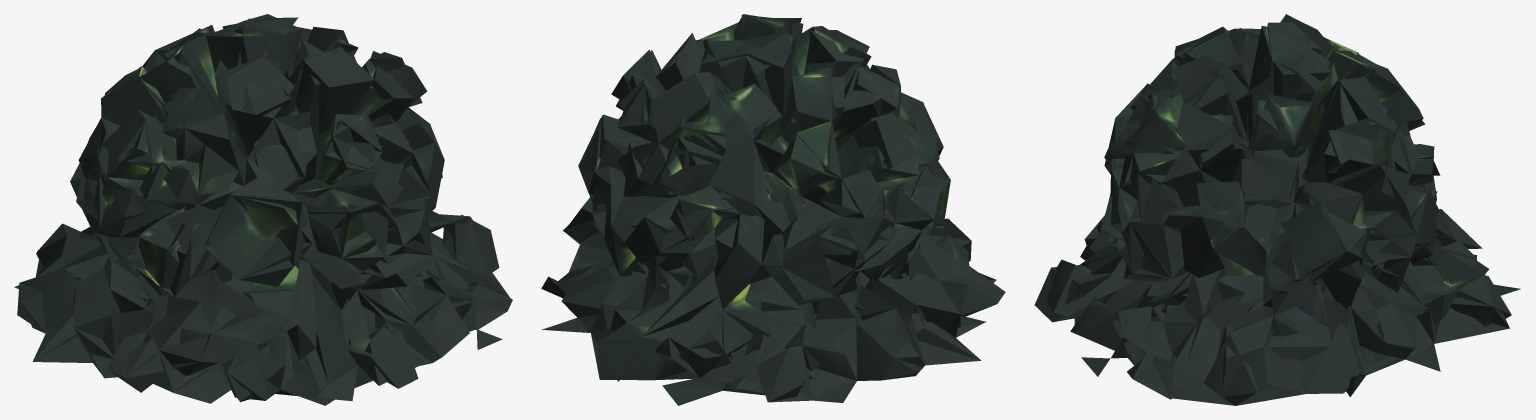
The model's file is spore_nest.glb.
3 views of the same model, side by side, from view 1: azimuth 30°, elevation 25°; view 2: azimuth 150°, elevation 25°; view 3: azimuth 270°, elevation 25° (orthographic). The views are drawn at different scales.
Size of the model in its own units: 2.6 by 1.6 by 2.57.
1 material, 1 textured.
